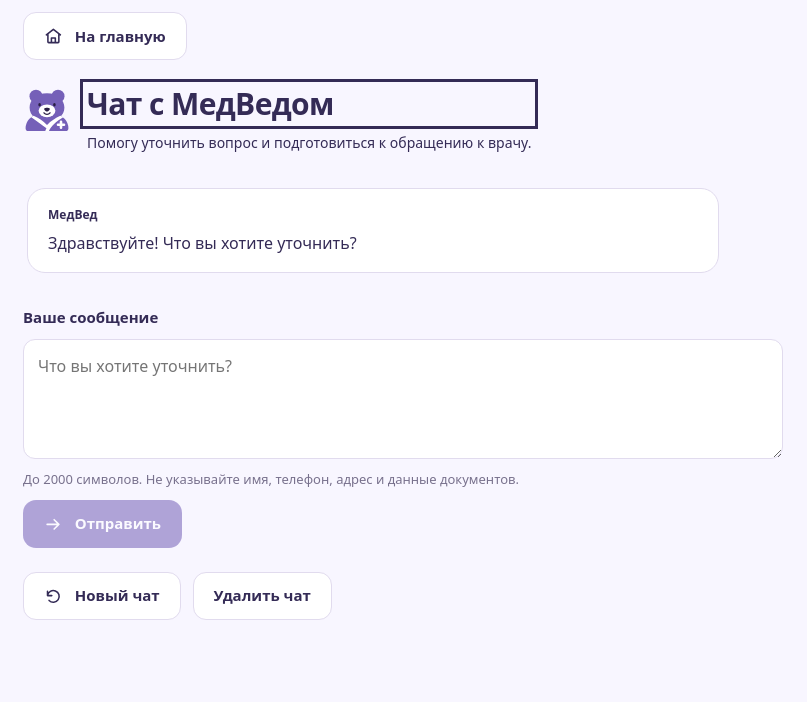
Test: chat sends a real client request and renders a reply as text
Expected: the text "Здравствуйте! Что вы хотите уточнить?" is shown, x1=48 y1=232 x2=357 y2=254
Type "Что взять на приём?" into the text box labelled "Ваше сообщение" at (403, 399), box x1=23 y1=339 x2=783 y2=459
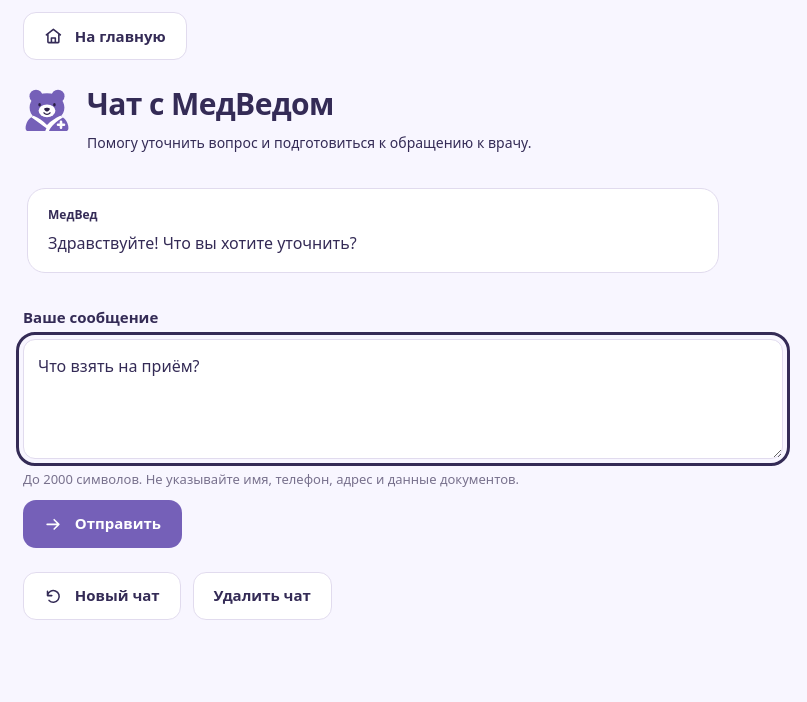
Click the button "Отправить" at (103, 524), box x1=23 y1=500 x2=182 y2=548
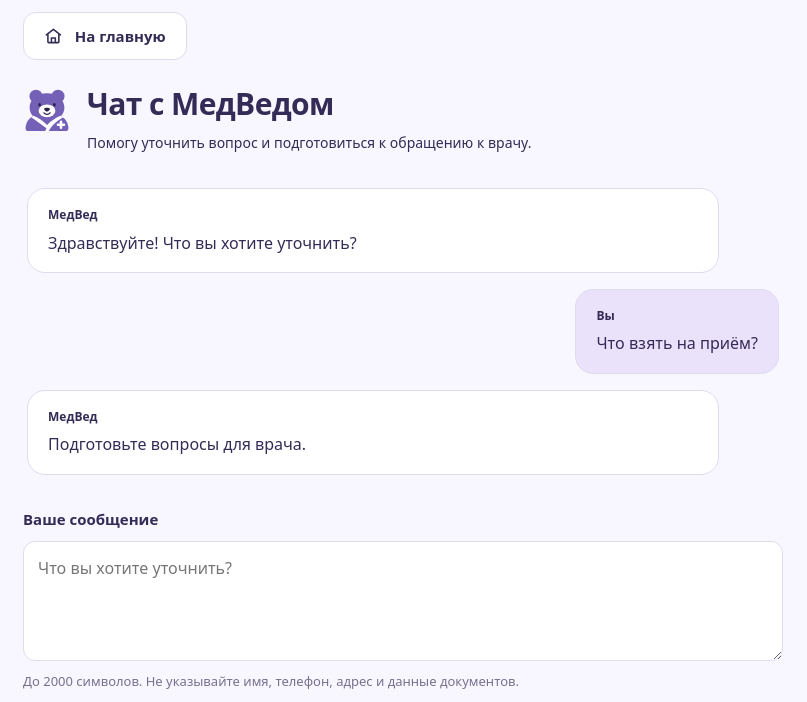
Result: the text "Подготовьте вопросы для врача." is shown at x1=48 y1=433 x2=306 y2=455
Result: the text box labelled "Ваше сообщение" is empty at x1=23 y1=541 x2=783 y2=661
